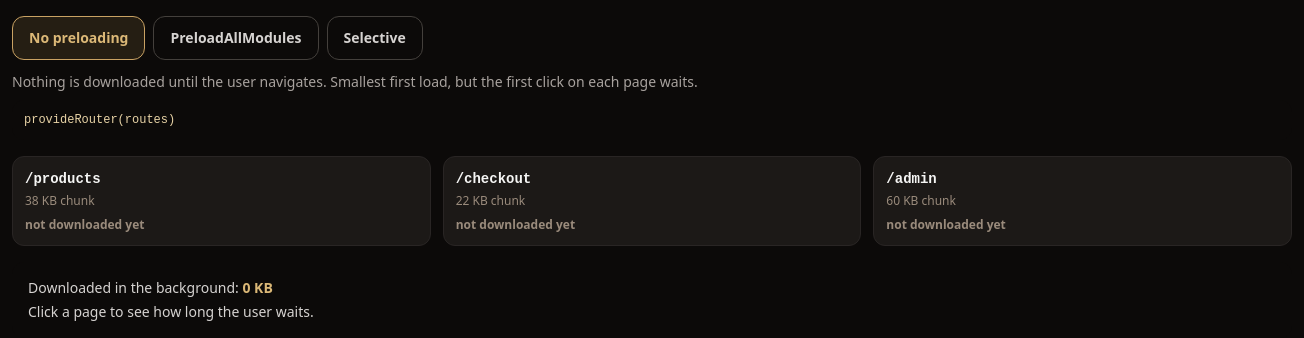
Scenario: PreloadingDemoComponent › makes the first visit wait when nothing is preloaded, and the second visit instant
Click the button "/admin 60 KB chunk not downloaded yet": (912, 179) [873,156,1292,246]
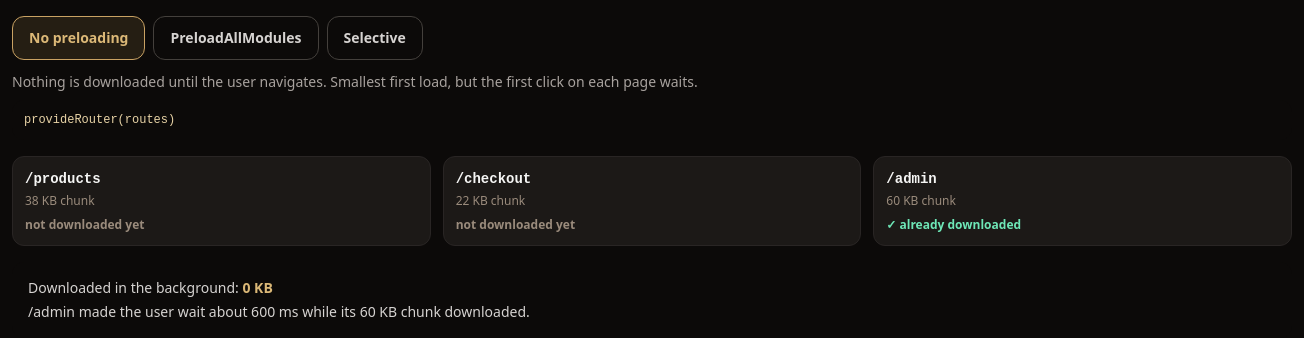
expect the text "wait about 600 ms" is shown: met, box [28,302,530,321]
Click the button "/admin 60 KB chunk ✓ already downloaded": (912, 179) [873,156,1292,246]
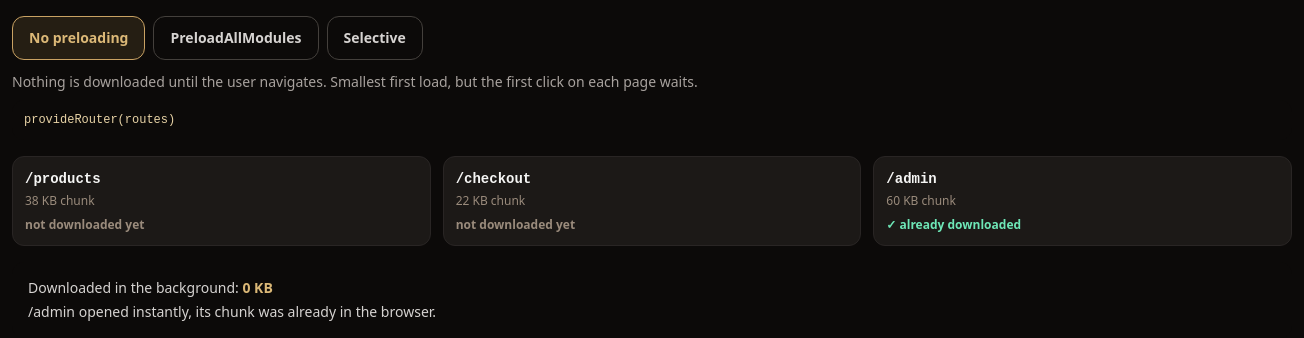
expect the text "instantly" is shown: met, box [28,302,436,321]
